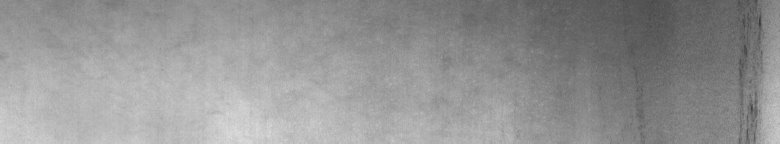ka: (732, 8, 770, 136)
